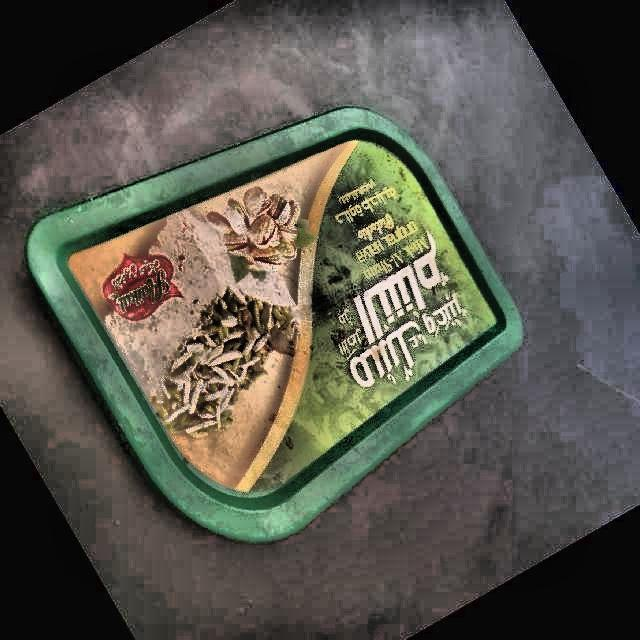plastic: (28, 108, 521, 539)
